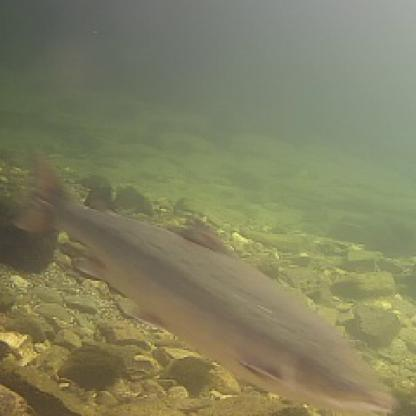salmon: (11, 144, 394, 414)
